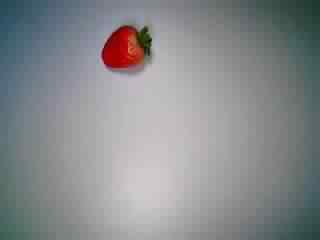strawberry: (95, 19, 161, 81)
